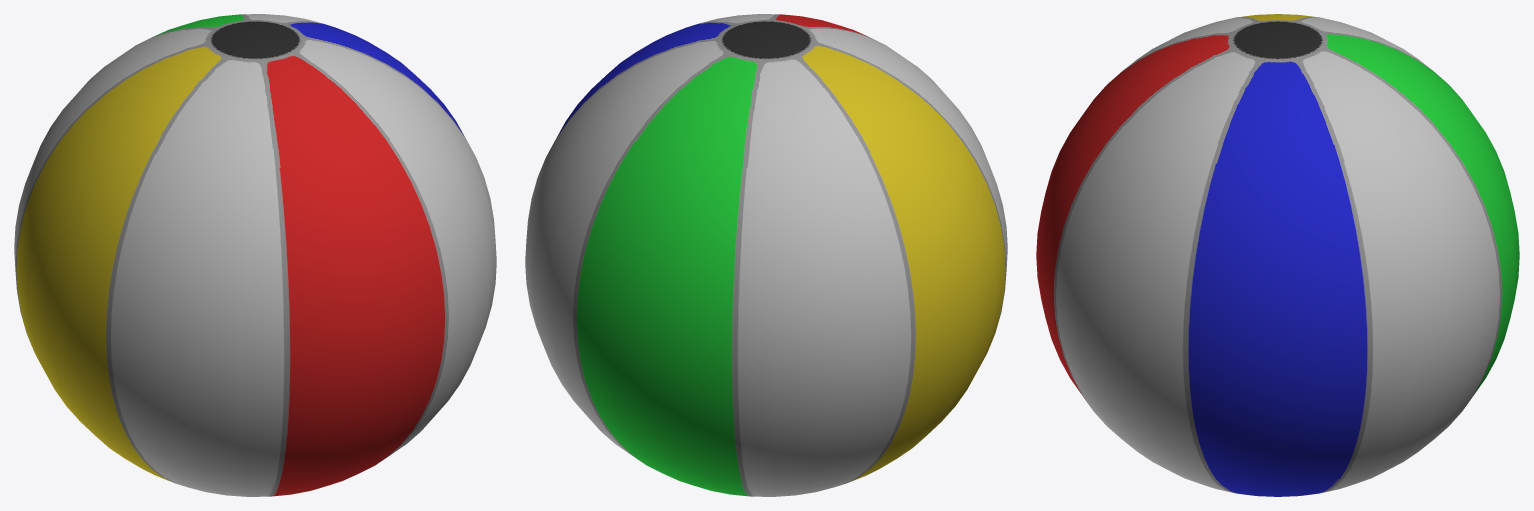
The model's file is Beachball.fbx.
3 renders of one model, left to right at view 1: azimuth 30°, elevation 25°; view 2: azimuth 150°, elevation 25°; view 3: azimuth 270°, elevation 25°, orthographic.
Parts seen in each view (by area): view 1: Basketball_Ball_Skin_Beach_Ball_Low; view 2: Basketball_Ball_Skin_Beach_Ball_Low; view 3: Basketball_Ball_Skin_Beach_Ball_Low.
Boxes of the visible parts, box(x1,y1,x2,y2) form: Basketball_Ball_Skin_Beach_Ball_Low: box(14, 14, 496, 496); Basketball_Ball_Skin_Beach_Ball_Low: box(525, 14, 1007, 496); Basketball_Ball_Skin_Beach_Ball_Low: box(1036, 14, 1519, 496).
Size of the model in its own units: 0.2402 by 0.2402 by 0.2402.
1 material, 1 textured.
